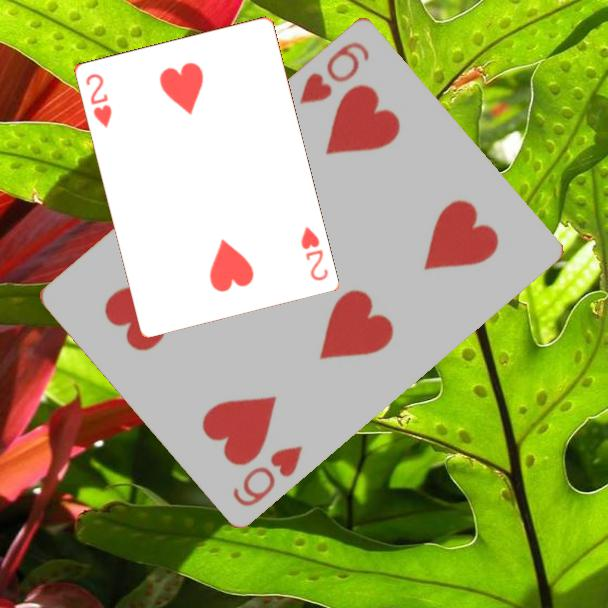h02: (297, 223, 331, 283), (82, 70, 114, 130)
h06: (295, 37, 373, 107), (229, 441, 306, 509)
